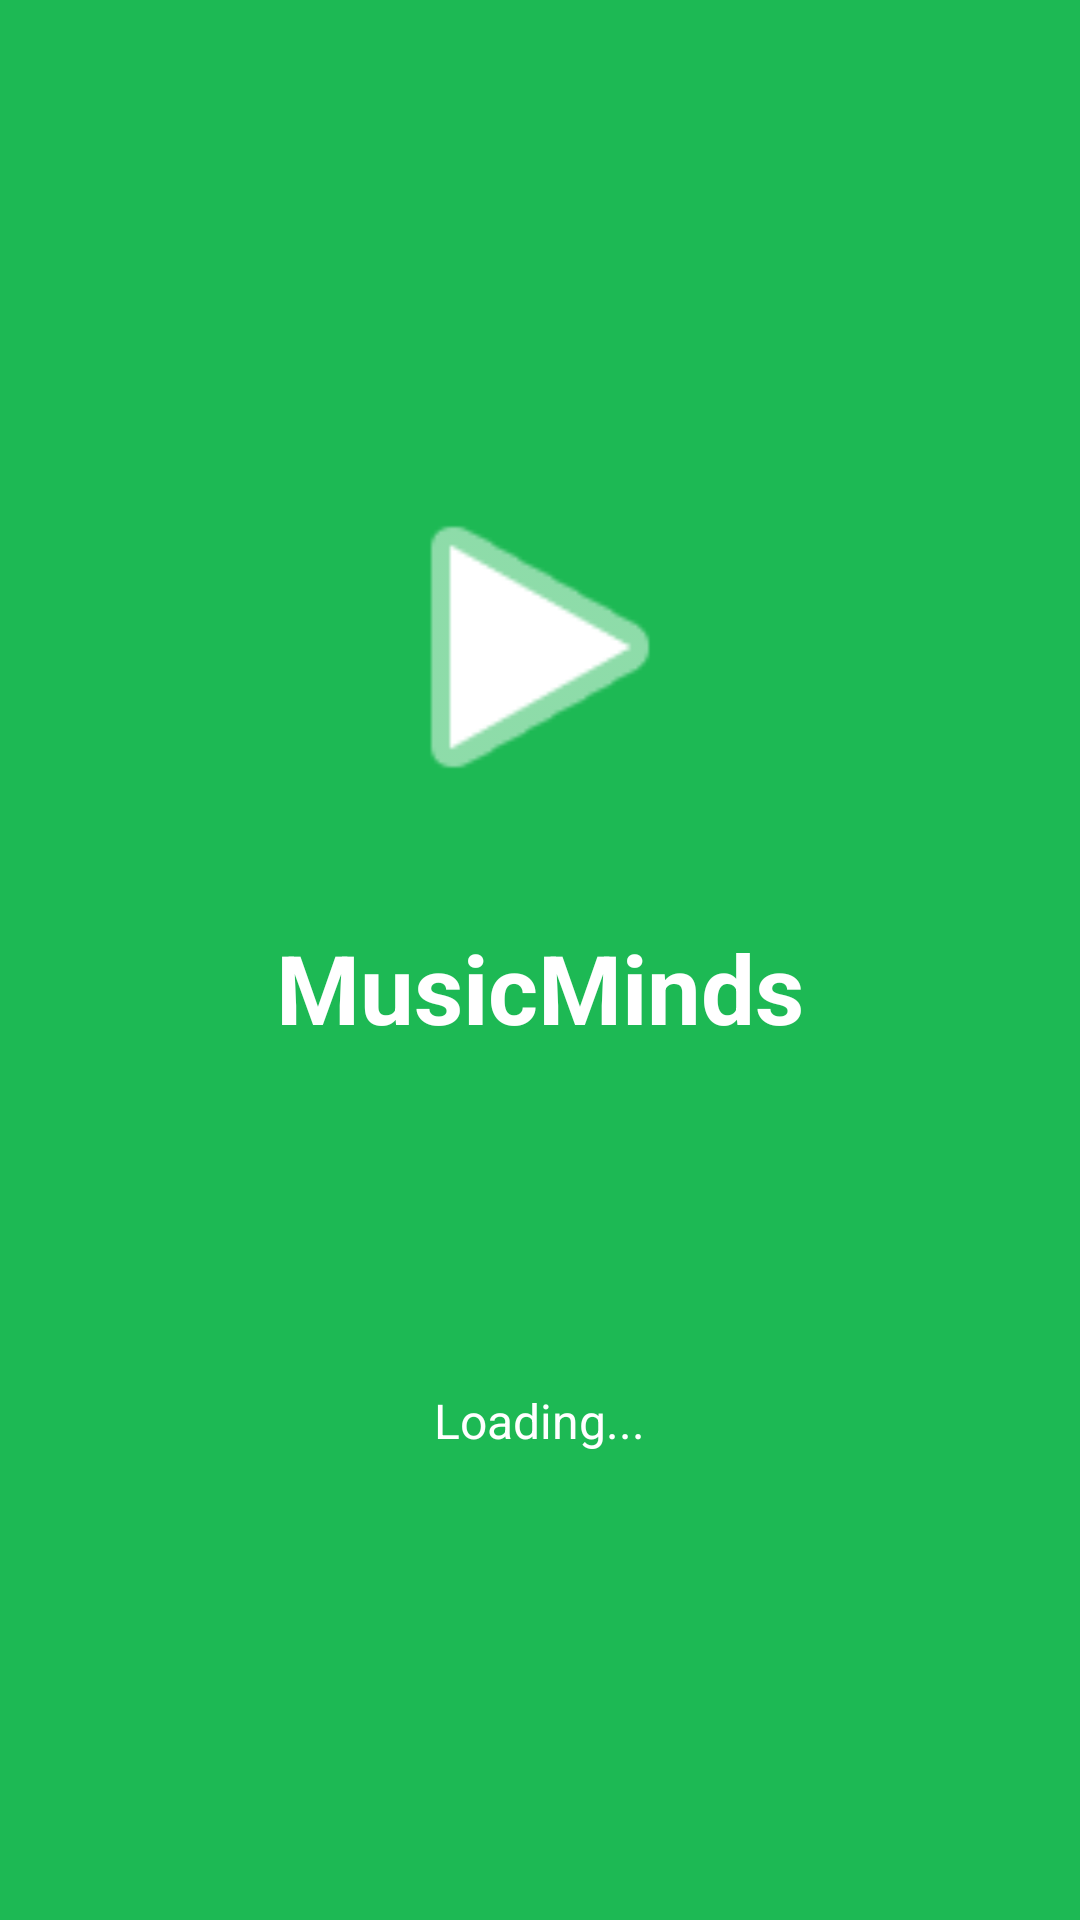

Icon click points for this 1080w x 1920h phone screenshot, format [x,y]:
play: [540,647]
